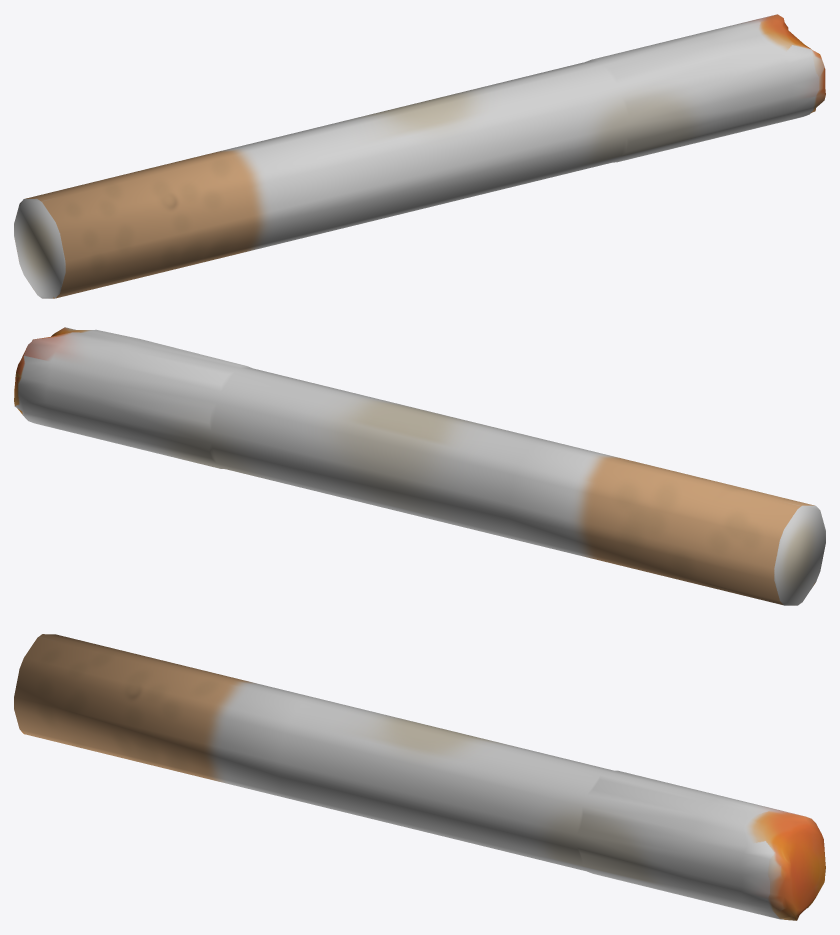
The model's file is cig.glb.
The picture shows the model from 3 angles, top to bottom: view 1: azimuth 30°, elevation 25°; view 2: azimuth 150°, elevation 25°; view 3: azimuth 330°, elevation 25°; orthographic projection.
Visible parts, largest first — view 1: Cube; view 2: Cube; view 3: Cube.
Part boxes in pixels (<box>): Cube: <box>14,14,825,298</box>; Cube: <box>14,327,825,605</box>; Cube: <box>14,634,825,920</box>.
Bounding box in the file's own units: 18.5 × 2.22 × 2.15.
1 material, 1 textured.
